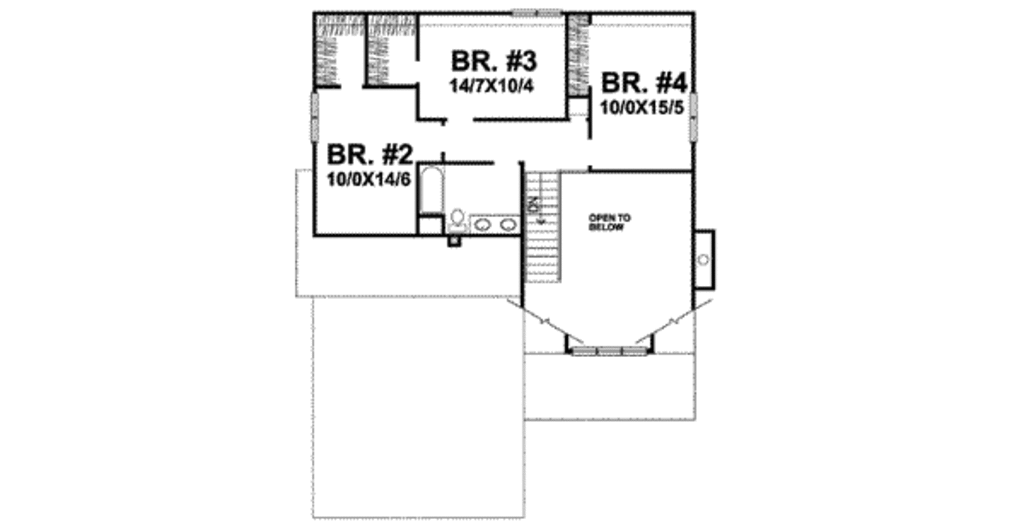large_sink: (448, 209, 465, 233)
small_sink: (468, 206, 517, 237)
stairs: (518, 167, 568, 282)
tub: (417, 166, 448, 212)
window: (560, 337, 651, 362), (513, 3, 573, 27), (301, 89, 324, 145), (683, 91, 706, 144)
